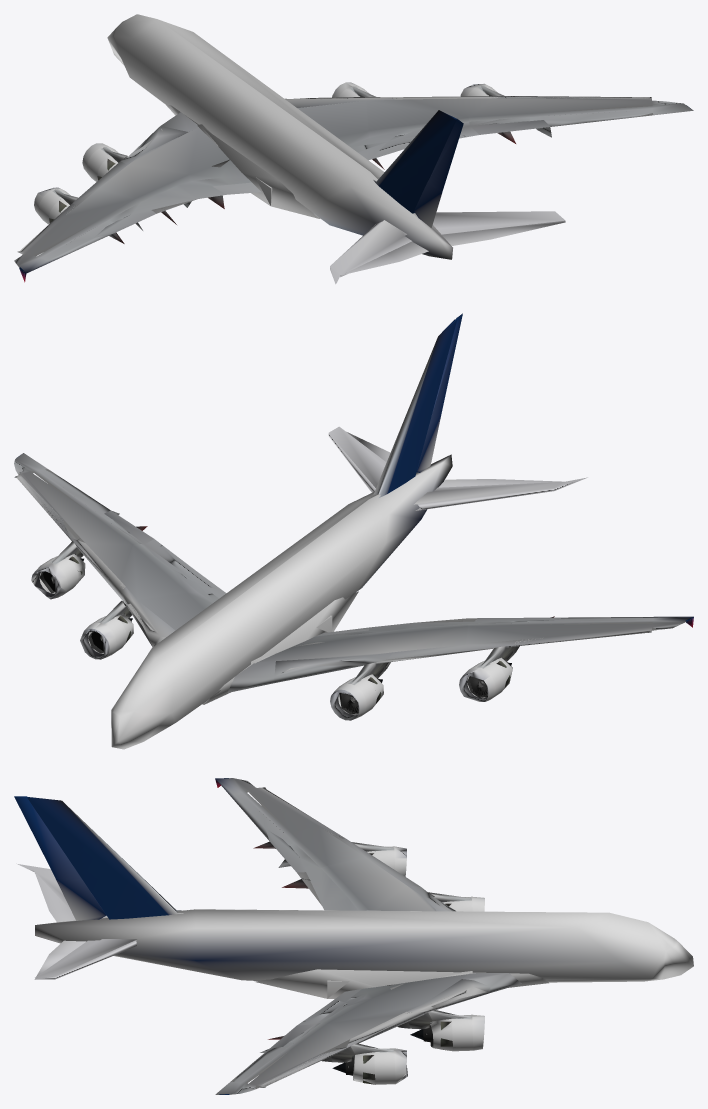
3 views of the same model, one above another, from view 1: azimuth 30°, elevation 25°; view 2: azimuth 150°, elevation 25°; view 3: azimuth 270°, elevation 25° (orthographic). The views are drawn at different scales.
Bounding box in the file's own units: 79.75 × 22.86 × 72.41.
